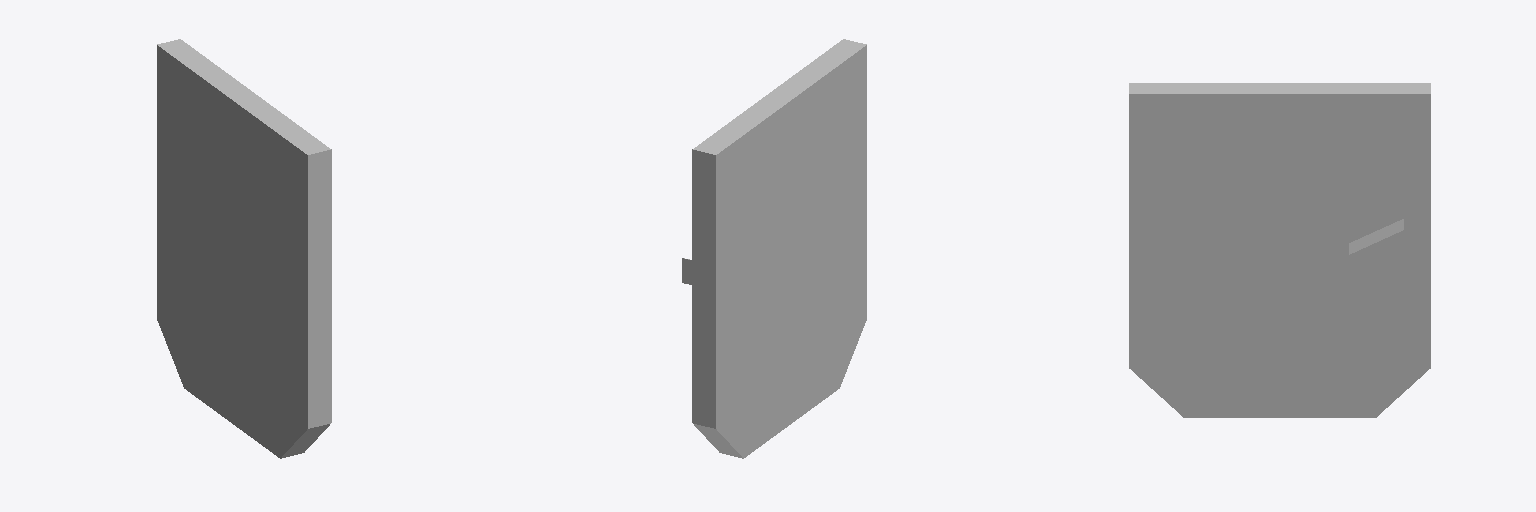
File: modeltdoorright.obj
3 views of the same model, side by side, from view 1: azimuth 30°, elevation 25°; view 2: azimuth 150°, elevation 25°; view 3: azimuth 270°, elevation 25° (orthographic).
Parts seen in each view (by area): view 1: modeltdoorright; view 2: modeltdoorright; view 3: modeltdoorright.
Boxes of the visible parts, box(x1,y1,x2,y2) form: modeltdoorright: box(157, 39, 331, 458); modeltdoorright: box(682, 39, 866, 458); modeltdoorright: box(1129, 83, 1430, 417).
Bounding box in the file's own units: 0.125 × 0.8125 × 0.6875.